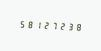eight: (25, 18, 32, 30), (73, 21, 80, 32)
five: (17, 18, 24, 29)
one: (33, 19, 40, 30)
seven: (49, 19, 56, 31)
three: (65, 20, 72, 32)
two: (41, 19, 48, 30), (57, 20, 64, 31)
